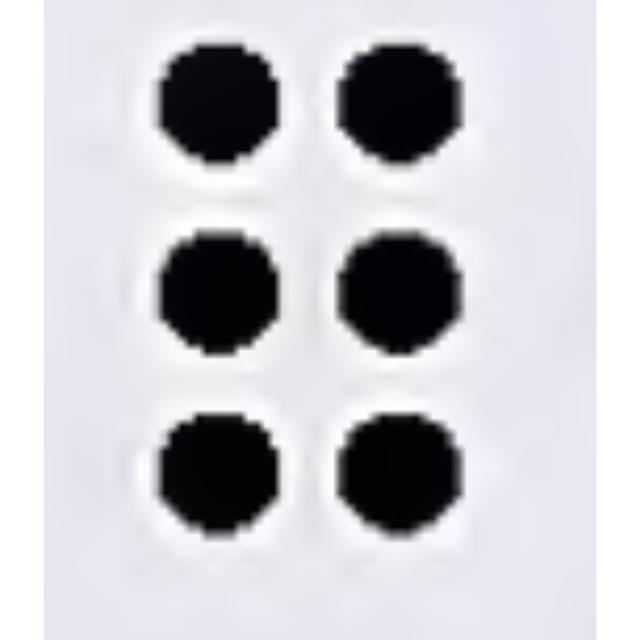one_cell_part_word_mahal: (157, 39, 466, 533)
